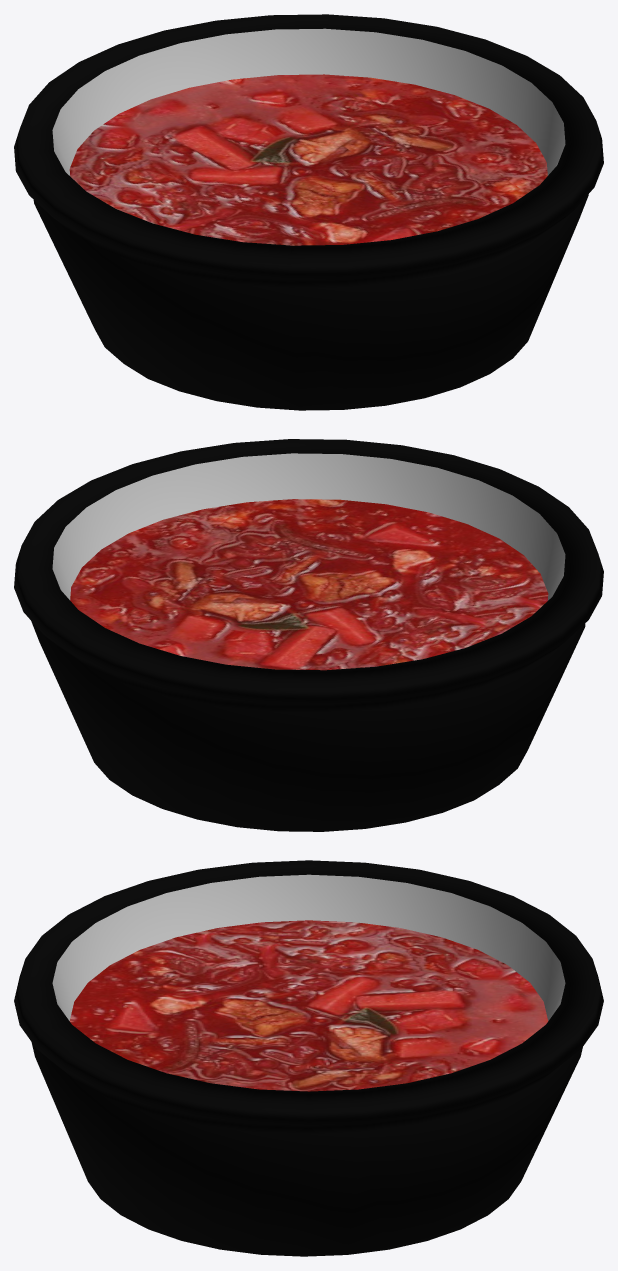
File: Tarelka_Borshchu.fbx
3 views of the same model, one above another, from view 1: azimuth 30°, elevation 25°; view 2: azimuth 150°, elevation 25°; view 3: azimuth 270°, elevation 25° (orthographic).
Visible parts, largest first — view 1: Circle.004, Circle003; view 2: Circle.004, Circle003; view 3: Circle.004, Circle003.
Part boxes in pixels (bbox=[...]): Circle.004: bbox=[14, 14, 603, 410]; Circle003: bbox=[69, 74, 547, 245]; Circle.004: bbox=[14, 439, 603, 831]; Circle003: bbox=[70, 499, 548, 670]; Circle.004: bbox=[14, 860, 603, 1256]; Circle003: bbox=[69, 920, 548, 1091].
Bounding box in the file's own units: 58.05 × 19.47 × 58.05.
